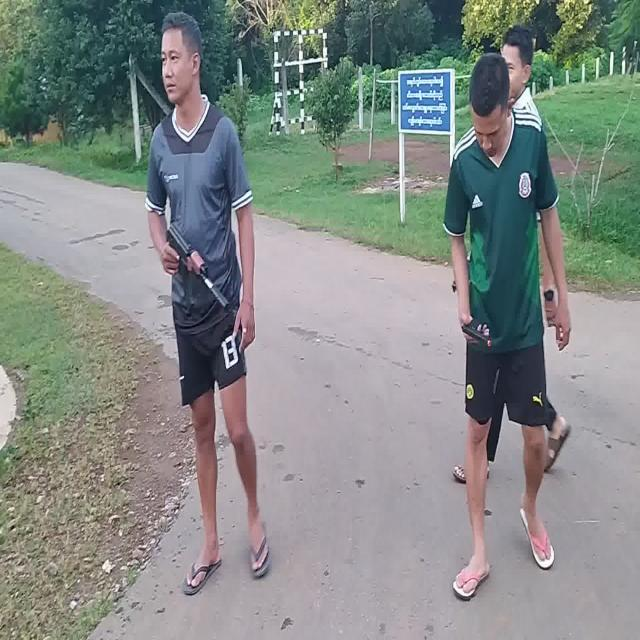gun: (168, 224, 230, 312), (461, 319, 491, 348)
